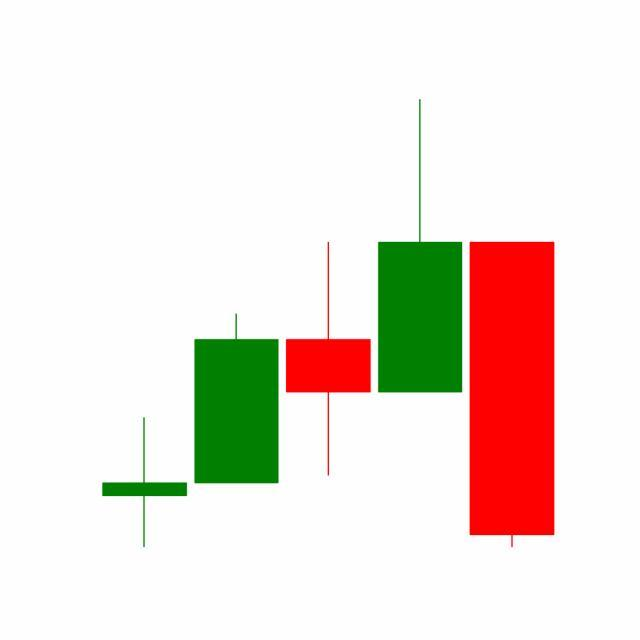Marubozu: (466, 239, 559, 552)
